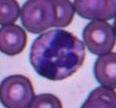N: (29, 28, 85, 80)
